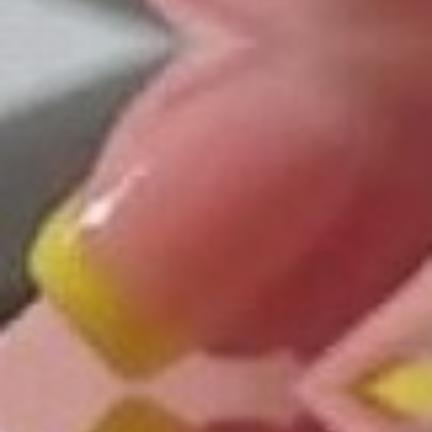Nail: (28, 55, 374, 380), (204, 0, 342, 29), (89, 397, 197, 432)
